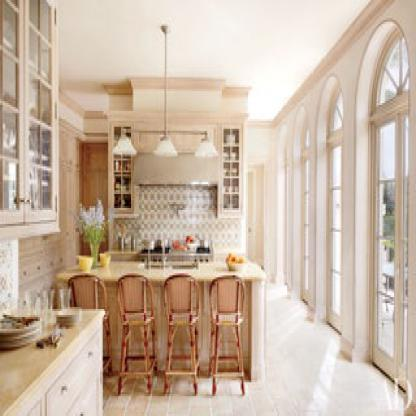chair: (159, 272, 205, 400), (212, 273, 253, 399), (64, 274, 111, 381), (117, 275, 155, 396)
door: (371, 104, 405, 379), (321, 102, 343, 330)
light: (110, 19, 140, 168), (153, 17, 179, 163), (192, 24, 217, 161)
table: (71, 260, 267, 383), (0, 308, 102, 416)
